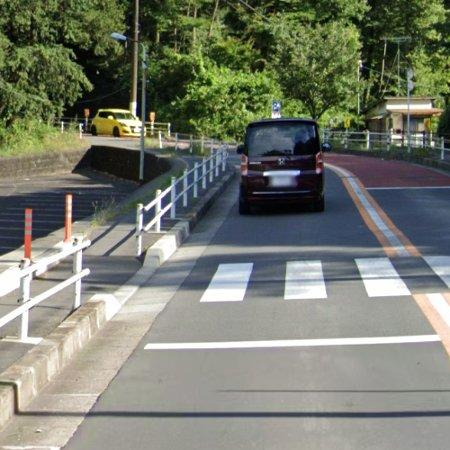crosswalks: (199, 254, 450, 304)
